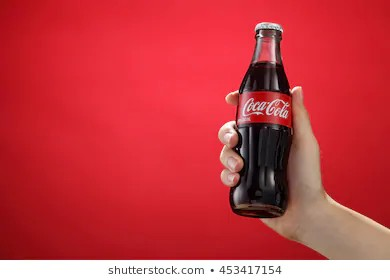coke-glass-bottle: (224, 14, 298, 219)
